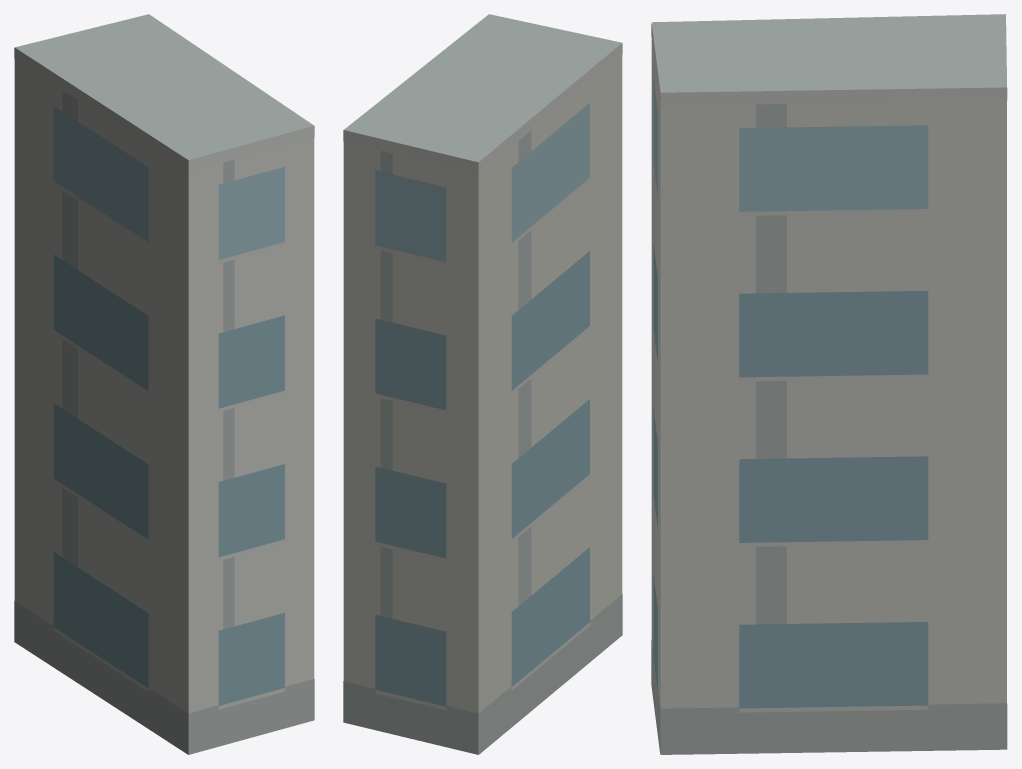
The model's file is survey-upis-32623364.glb.
The picture shows the model from 3 angles, left to right: view 1: azimuth 30°, elevation 25°; view 2: azimuth 150°, elevation 25°; view 3: azimuth 270°, elevation 25°; orthographic projection. The views are drawn at different scales.
Parts seen in each view (by area): view 1: survey-upis-32623364.tmp; view 2: survey-upis-32623364.tmp; view 3: survey-upis-32623364.tmp.
Boxes of the visible parts, <box> form: survey-upis-32623364.tmp: <box>14,14,314,754</box>; survey-upis-32623364.tmp: <box>343,14,622,754</box>; survey-upis-32623364.tmp: <box>651,14,1007,754</box>.
Bounding box in the file's own units: 3.12 × 12.2 × 5.95.
